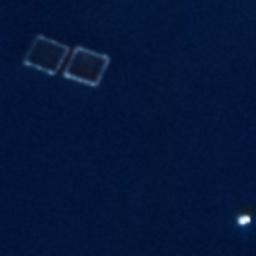square_solid: (20, 31, 74, 79), (61, 43, 114, 91)
